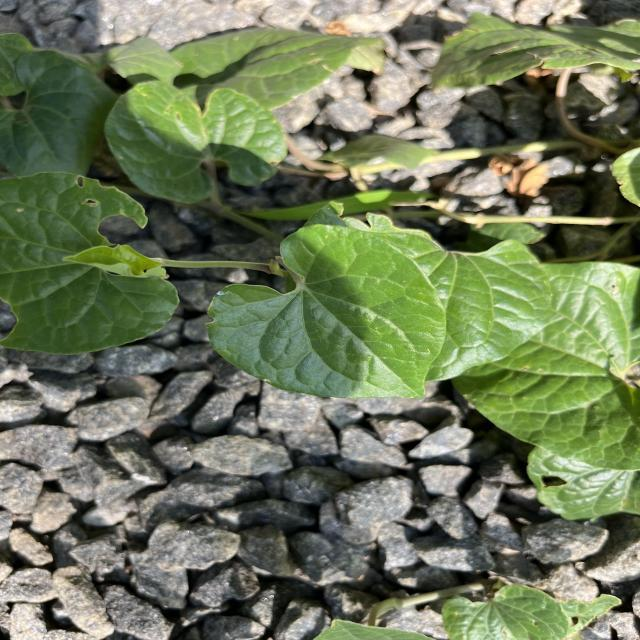Piper longum: (204, 220, 451, 404)
